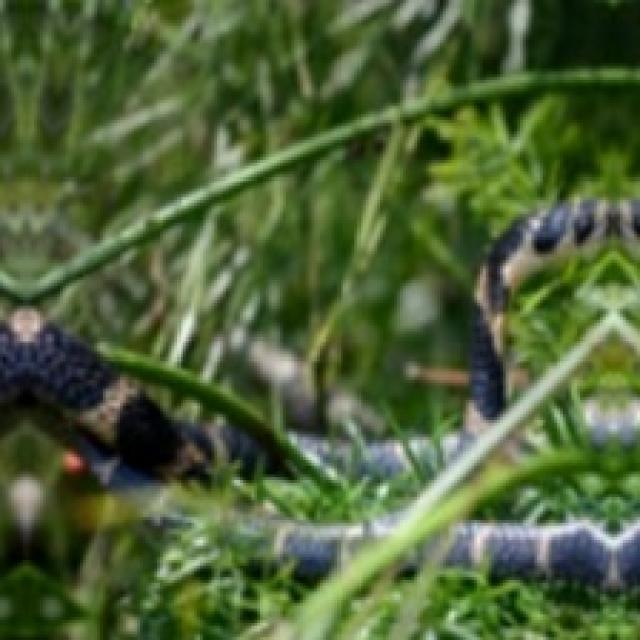king cobra: (403, 197, 637, 589), (226, 514, 400, 583), (174, 534, 214, 577)
